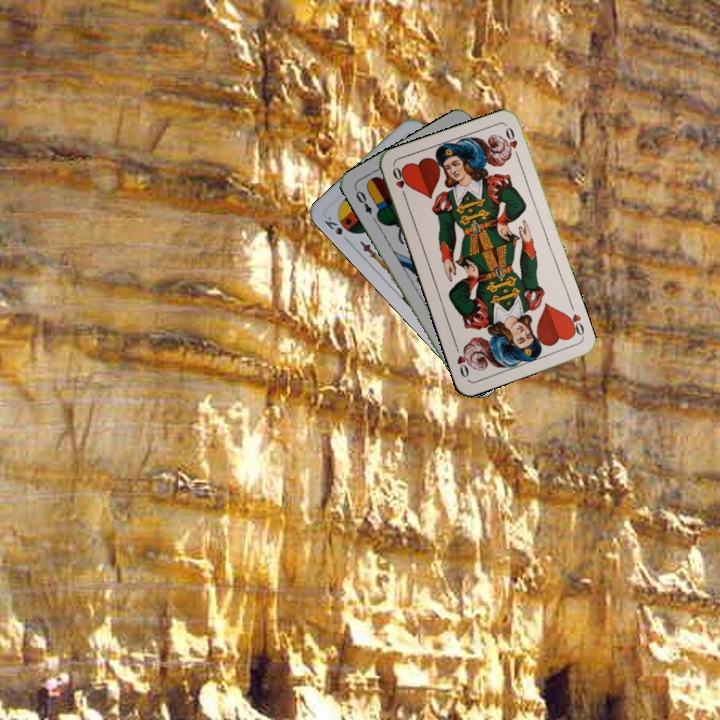EO: (351, 184, 374, 217)
HO: (388, 163, 409, 202), (562, 309, 587, 340)
SK: (320, 212, 345, 237)
